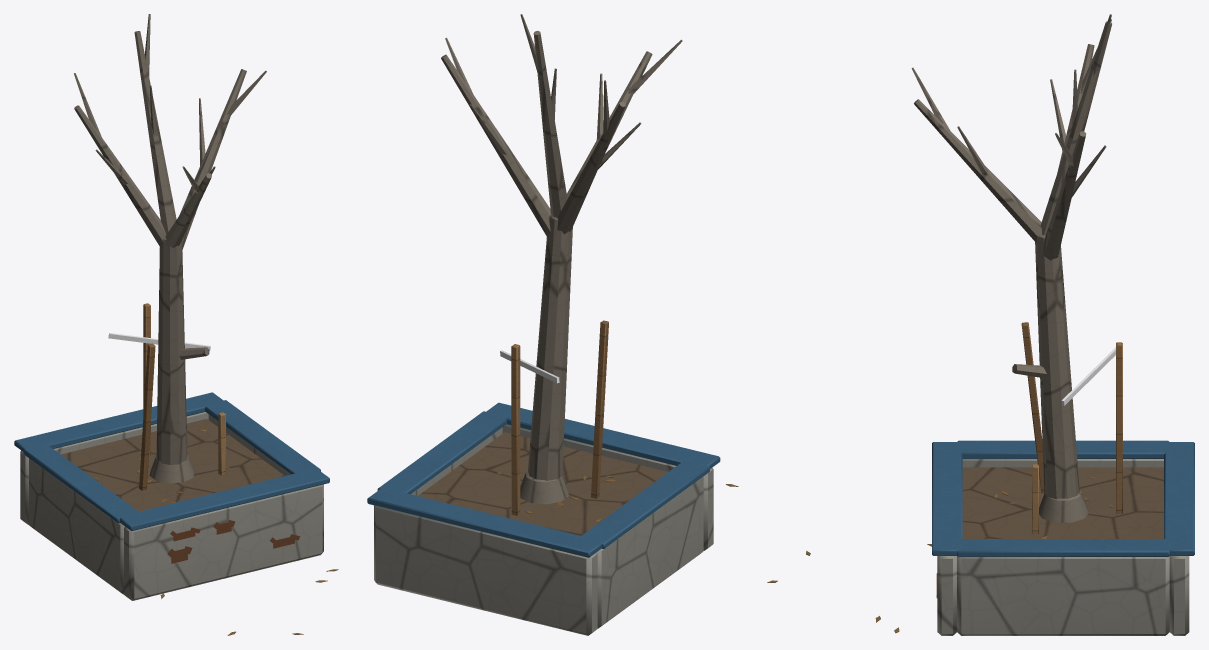
The model's file is planter_tree_dead.glb.
The picture shows the model from 3 angles, left to right: view 1: azimuth 30°, elevation 25°; view 2: azimuth 150°, elevation 25°; view 3: azimuth 270°, elevation 25°; orthographic projection. The views are drawn at different scales.
Parts seen in each view (by area): view 1: planter_tree_dead; view 2: planter_tree_dead; view 3: planter_tree_dead.
Boxes of the visible parts, <box> form: planter_tree_dead: <box>14,14,338,635</box>; planter_tree_dead: <box>367,14,738,635</box>; planter_tree_dead: <box>767,14,1194,635</box>.
Bounding box in the file's own units: 1.88 × 4.5 × 3.06.
10 materials, 10 textured.
